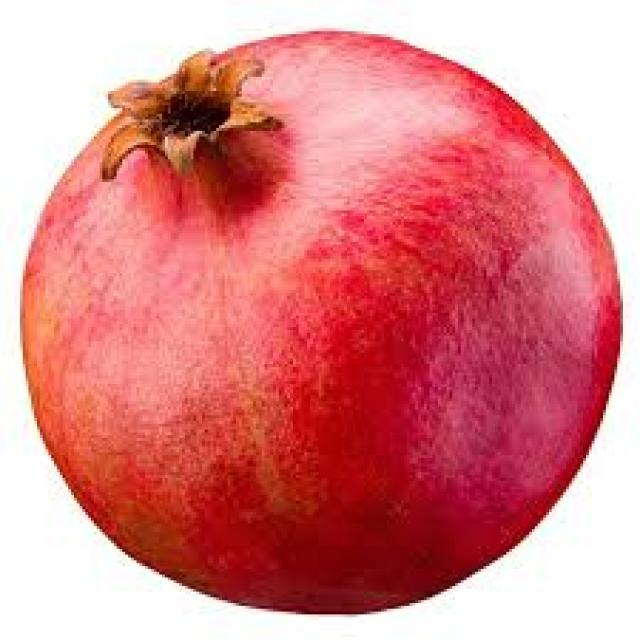pomegranate: (23, 34, 623, 617)
